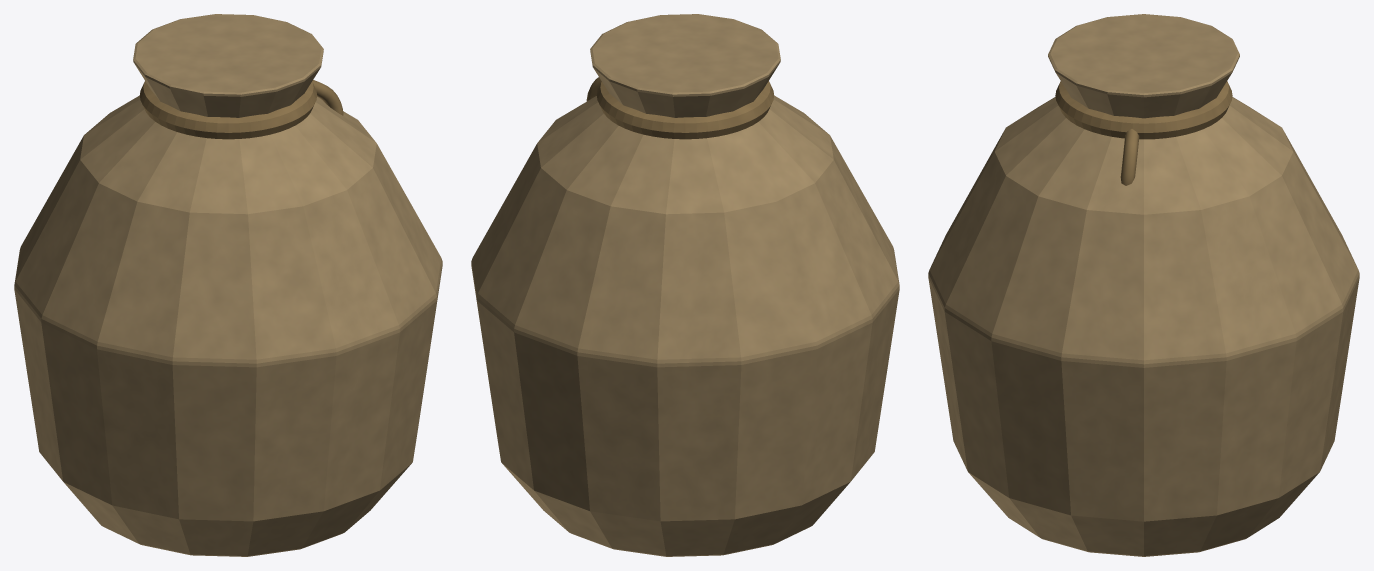
Rendered from Grain_Sack.fbx.
The picture shows the model from 3 angles, left to right: view 1: azimuth 30°, elevation 25°; view 2: azimuth 150°, elevation 25°; view 3: azimuth 270°, elevation 25°; orthographic projection.
Visible parts, largest first — view 1: Grain_Sack.001; view 2: Grain_Sack.001; view 3: Grain_Sack.001.
Boxes of the visible parts, <box> form: Grain_Sack.001: <box>14,14,442,556</box>; Grain_Sack.001: <box>471,14,899,556</box>; Grain_Sack.001: <box>928,14,1359,556</box>.
Size of the model in its own units: 0.8378 by 0.95 by 0.8378.
